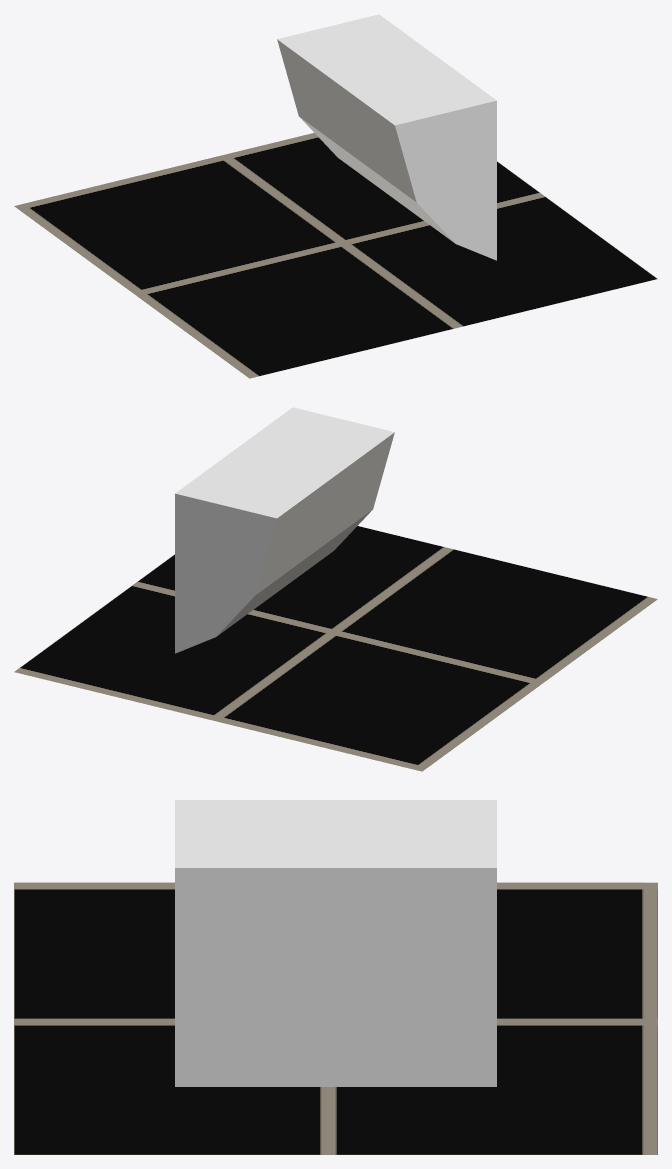
Rendered from Basic_Straight_Under_1x1.glb.
The picture shows the model from 3 angles, top to bottom: view 1: azimuth 30°, elevation 25°; view 2: azimuth 150°, elevation 25°; view 3: azimuth 270°, elevation 25°; orthographic projection. The views are drawn at different scales.
Parts seen in each view (by area): view 1: Floor, Basic_Straight_Under_1x1; view 2: Floor, Basic_Straight_Under_1x1; view 3: Floor, Basic_Straight_Under_1x1.
Boxes of the visible parts, left/top/right/bottom form: Floor: left=14, top=133, right=657, bottom=378; Basic_Straight_Under_1x1: left=277, top=14, right=496, bottom=260; Floor: left=14, top=526, right=657, bottom=771; Basic_Straight_Under_1x1: left=175, top=407, right=394, bottom=653; Floor: left=14, top=882, right=657, bottom=1154; Basic_Straight_Under_1x1: left=175, top=800, right=496, bottom=1086.
Size of the model in its own units: 200 by 75 by 200.
3 materials, 1 textured.
